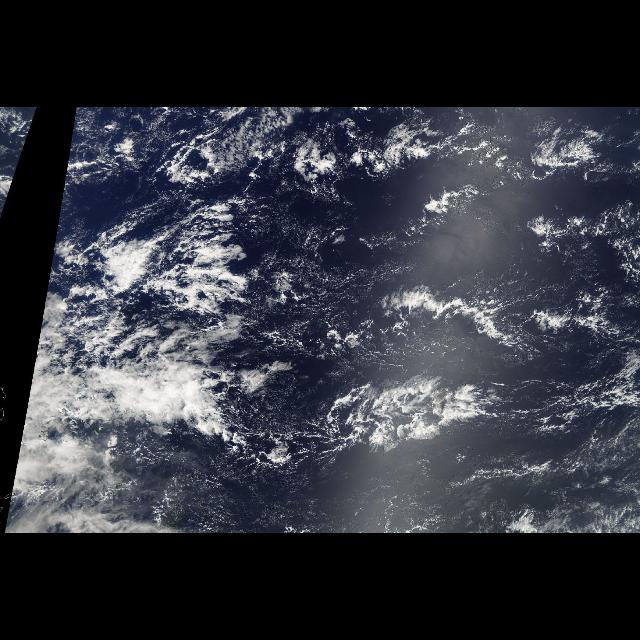Fish: (208, 107, 640, 487)
Gravel: (193, 210, 639, 354)
Sugar: (128, 447, 638, 531)
